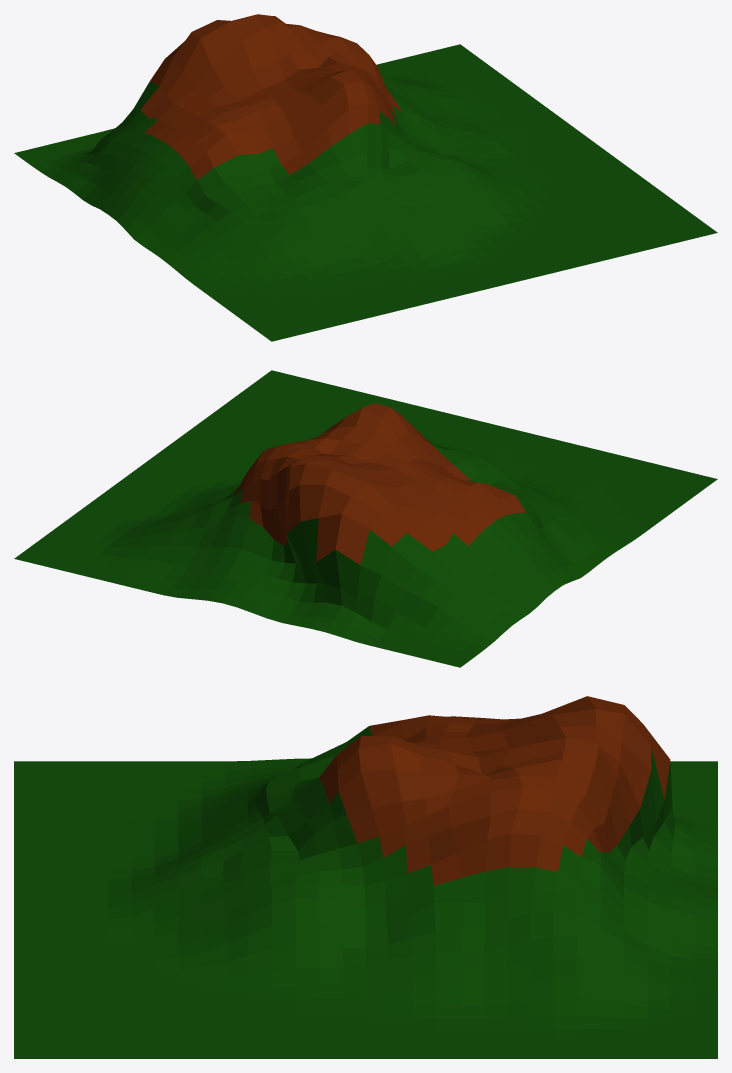
Rendered from hill_1.FBX.
3 renders of one model, top to bottom at view 1: azimuth 30°, elevation 25°; view 2: azimuth 150°, elevation 25°; view 3: azimuth 270°, elevation 25°, orthographic. The views are drawn at different scales.
Parts seen in each view (by area): view 1: hill_1; view 2: hill_1; view 3: hill_1.
Boxes of the visible parts, left/top/right/bottom form: hill_1: left=14, top=14, right=717, bottom=341; hill_1: left=14, top=370, right=717, bottom=667; hill_1: left=14, top=696, right=717, bottom=1058.
Bounding box in the file's own units: 3000 × 790 × 3000.
